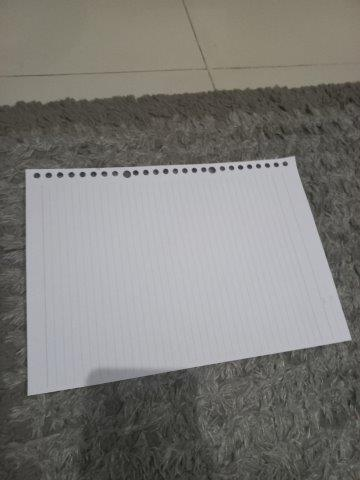kertas: (24, 156, 353, 398)
